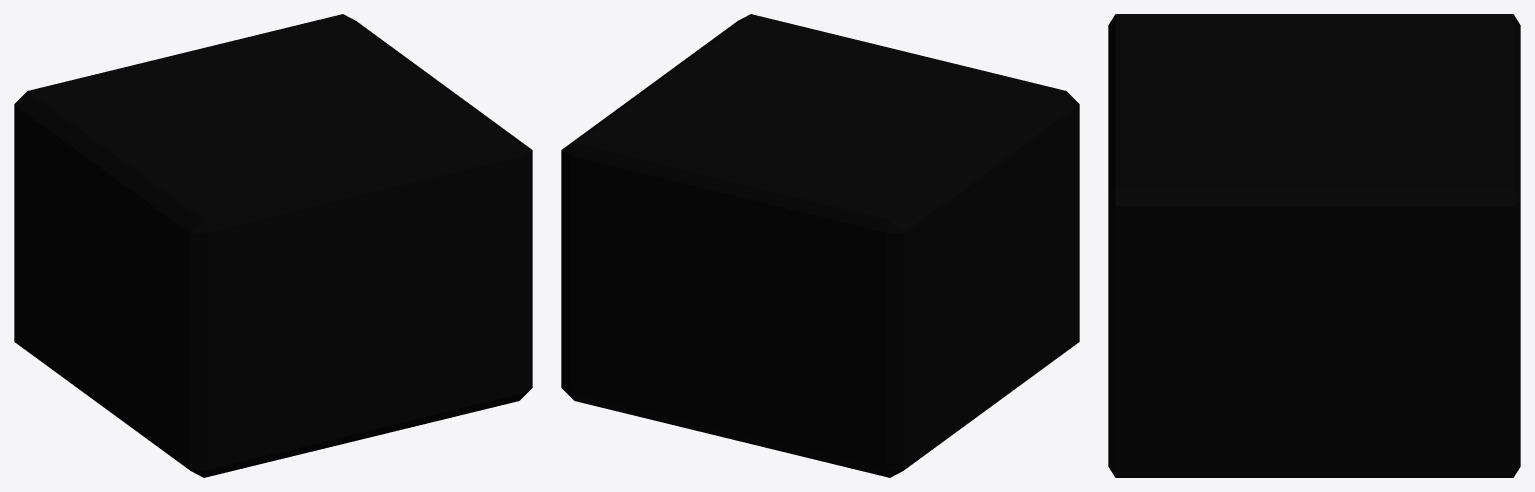
Rendered from Carton_03.fbx.
3 views of the same model, side by side, from view 1: azimuth 30°, elevation 25°; view 2: azimuth 150°, elevation 25°; view 3: azimuth 270°, elevation 25° (orthographic). The views are drawn at different scales.
Parts seen in each view (by area): view 1: Carton_03; view 2: Carton_03; view 3: Carton_03.
Boxes of the visible parts, <box> form: Carton_03: <box>14,14,532,477</box>; Carton_03: <box>561,14,1079,477</box>; Carton_03: <box>1108,14,1520,477</box>.
Size of the model in its own units: 212 by 153 by 196.
